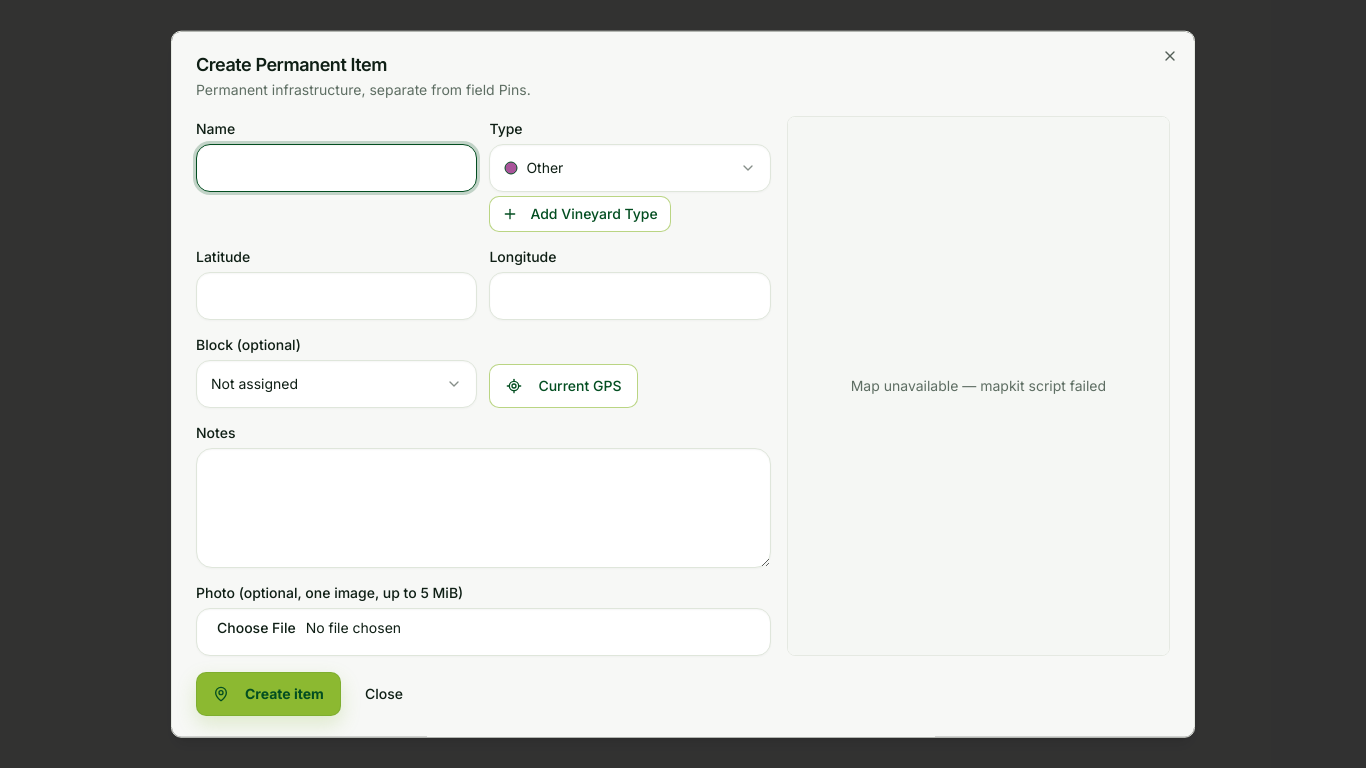
Test: adds a vineyard type once and selects it only after verified save
Later steps or results of the test are not shown.
Click the button "Add Vineyard Type" at (580, 214), box [489,196,671,232]
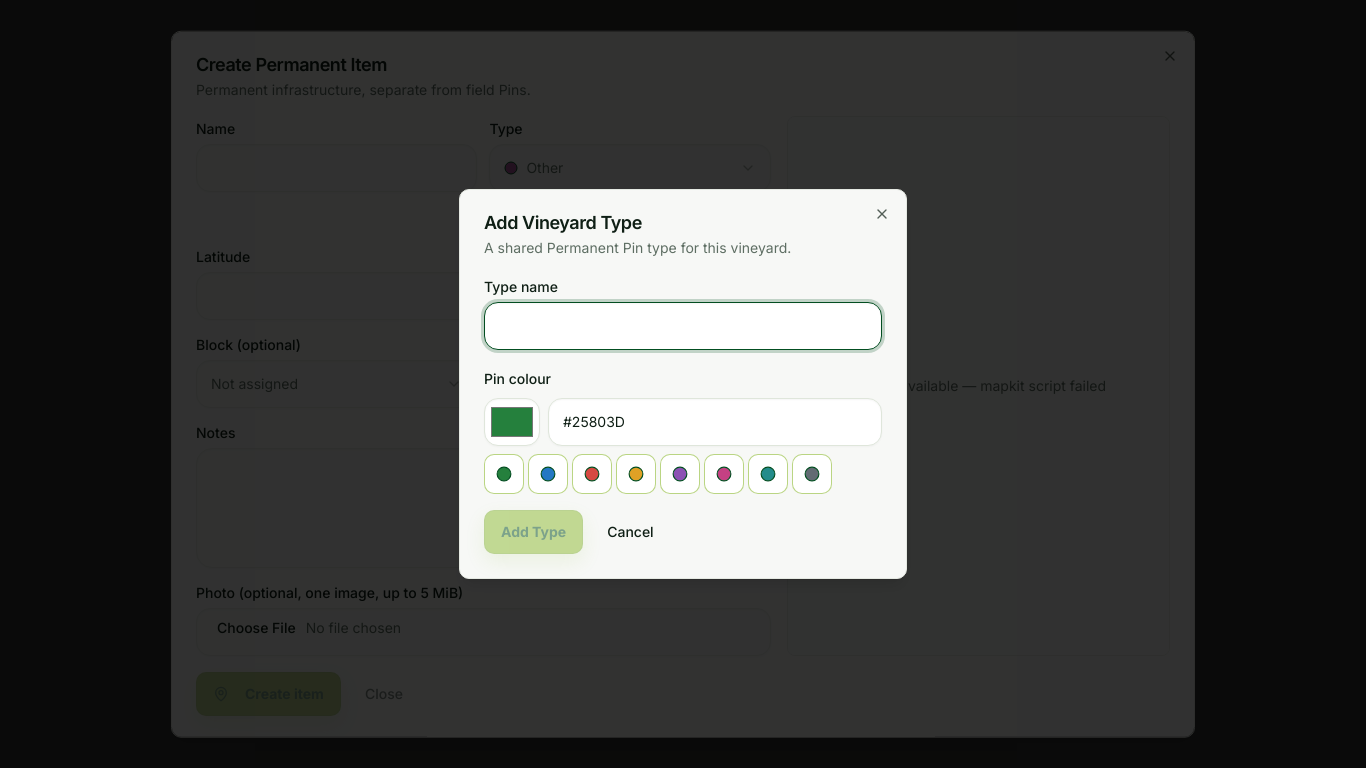
Type " Weather station " into the field labelled "Type name" at (683, 326), box [484,302,882,350]
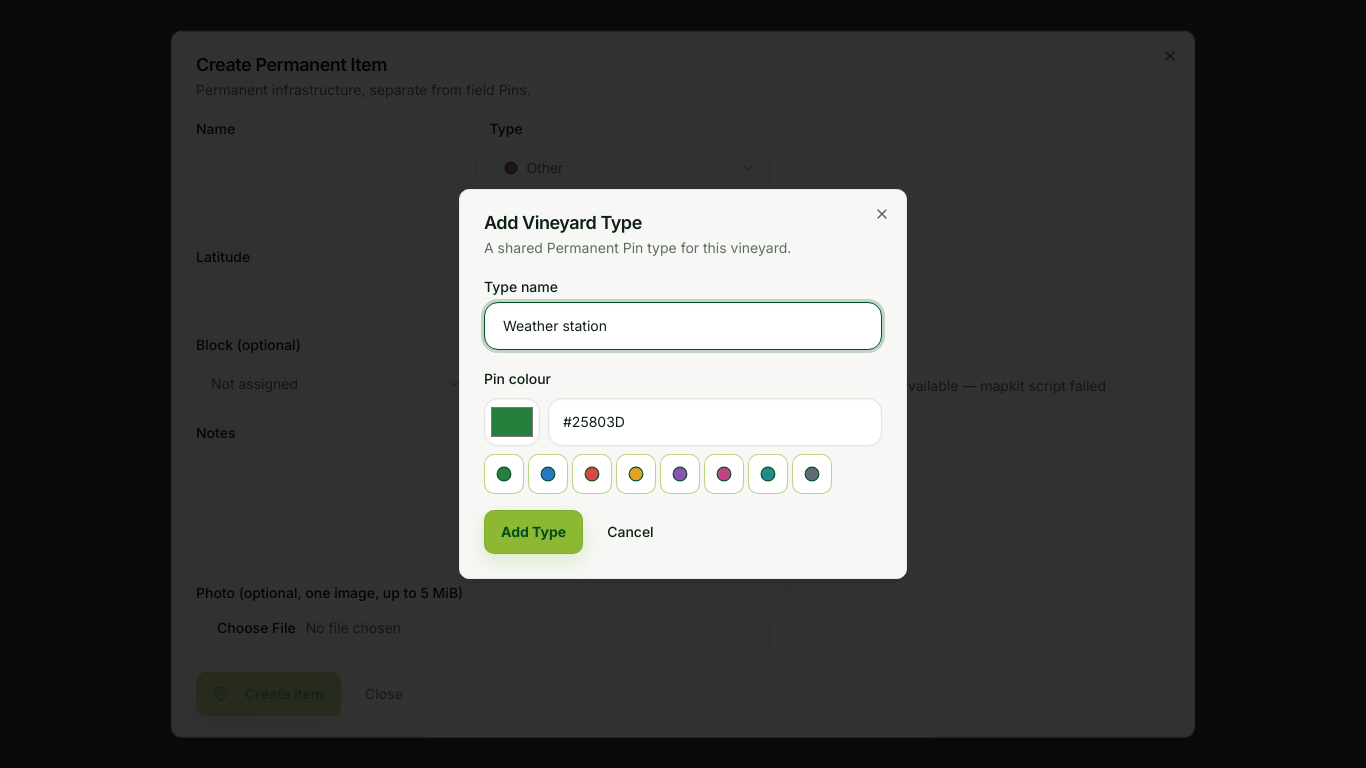
Replace the text in the field named "Colour hex" with "#2478C4" at (715, 422), box [548,398,882,446]
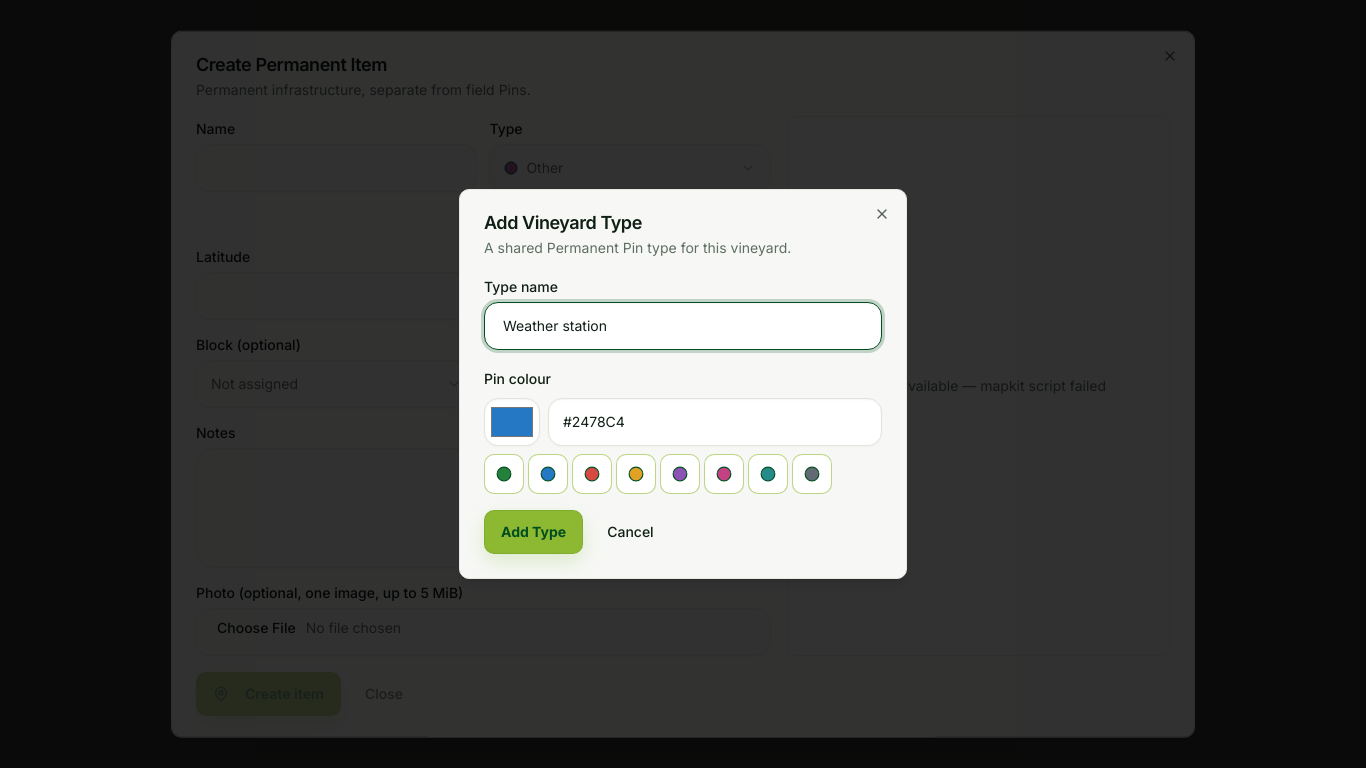
Click the button "Add Type" at (534, 532), box [484,510,583,554]
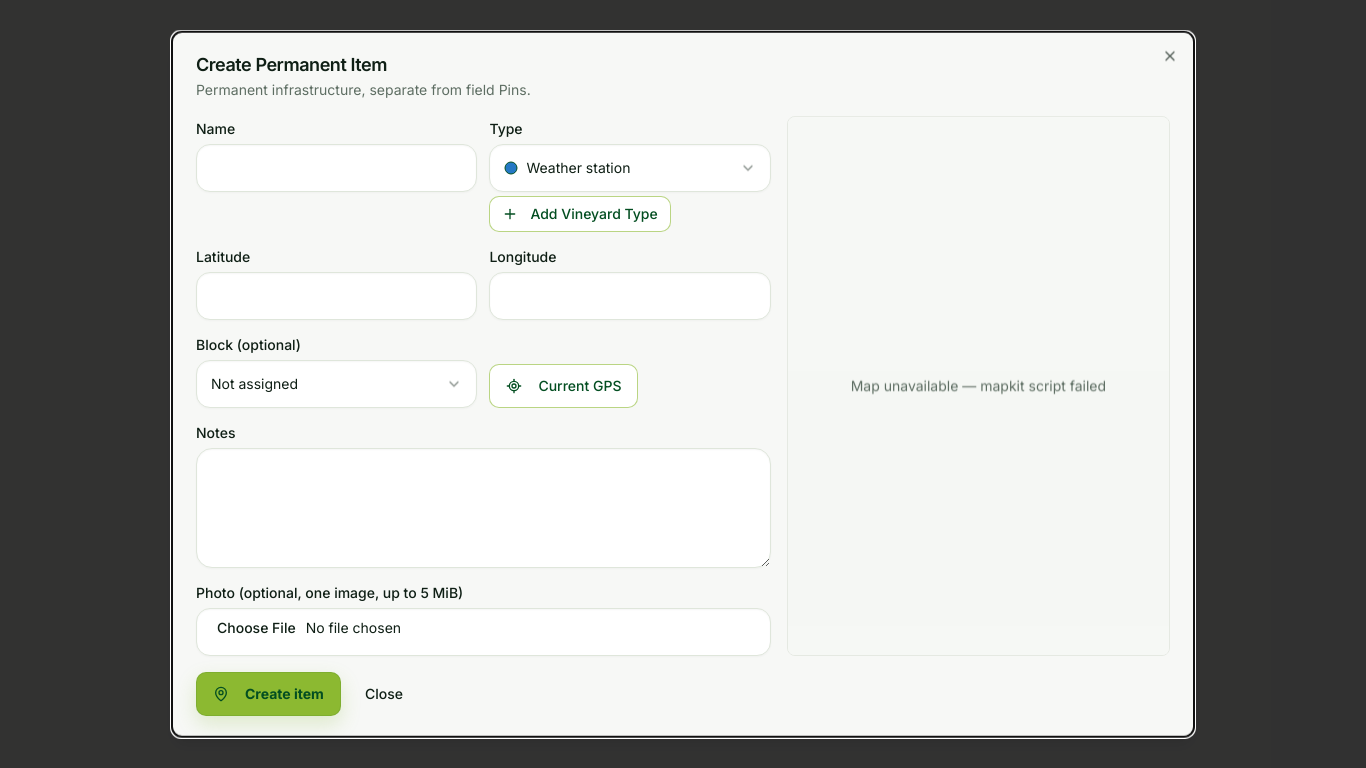
Expected: the dropdown named "Type" reads "Weather station", [489,144,771,192]
